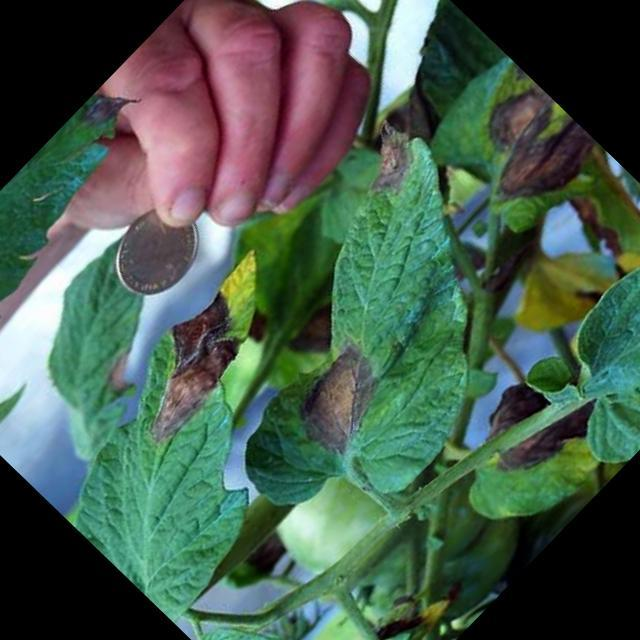Tomato late blight leaf: (130, 100, 597, 569), (27, 243, 403, 622), (511, 216, 640, 479)
